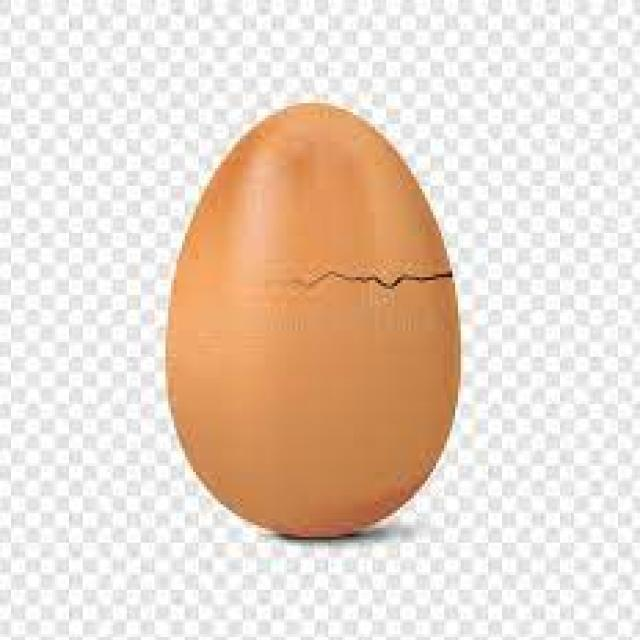biodegradable: (165, 104, 458, 538)
